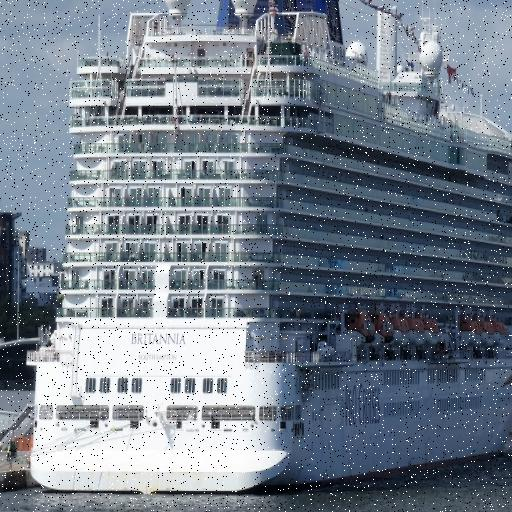cruises: (23, 1, 512, 507)
